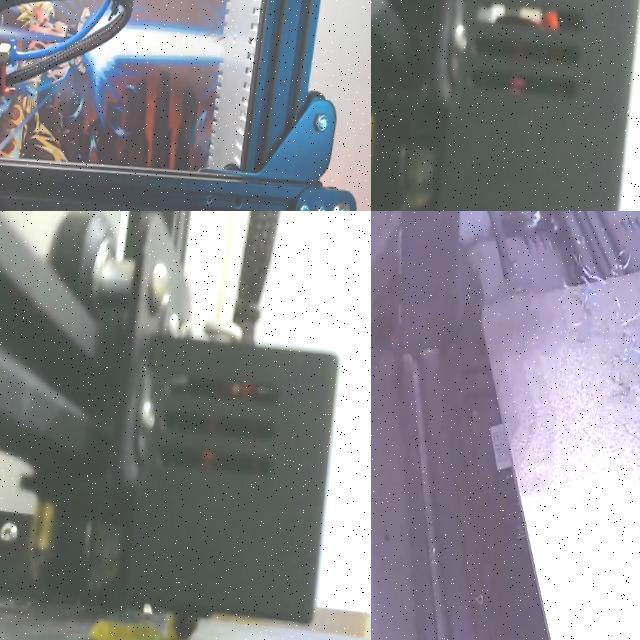spaghetti: (561, 250, 613, 322), (89, 619, 181, 640), (612, 323, 640, 388)
